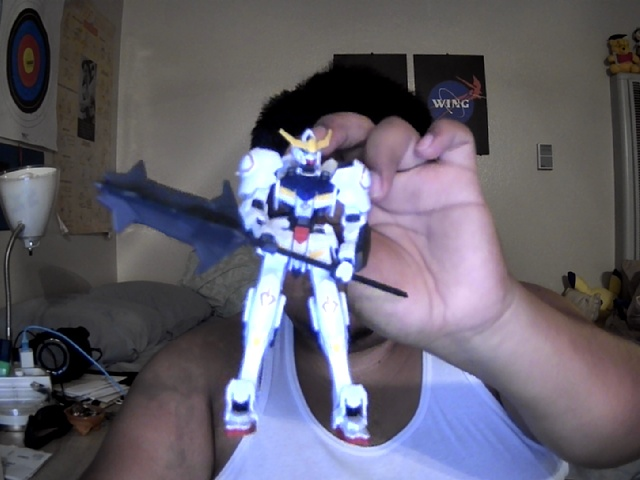Barbatos: (92, 126, 408, 447)
